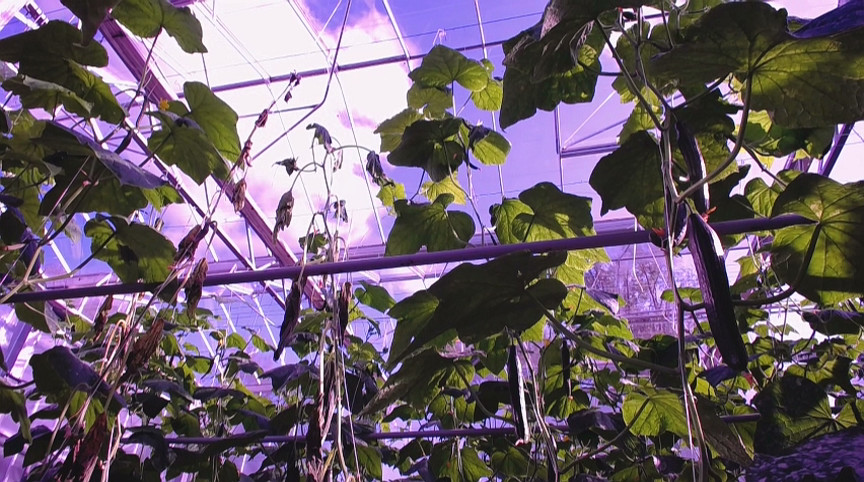cucumber: (685, 212, 749, 372), (678, 126, 711, 217), (507, 344, 530, 444)
